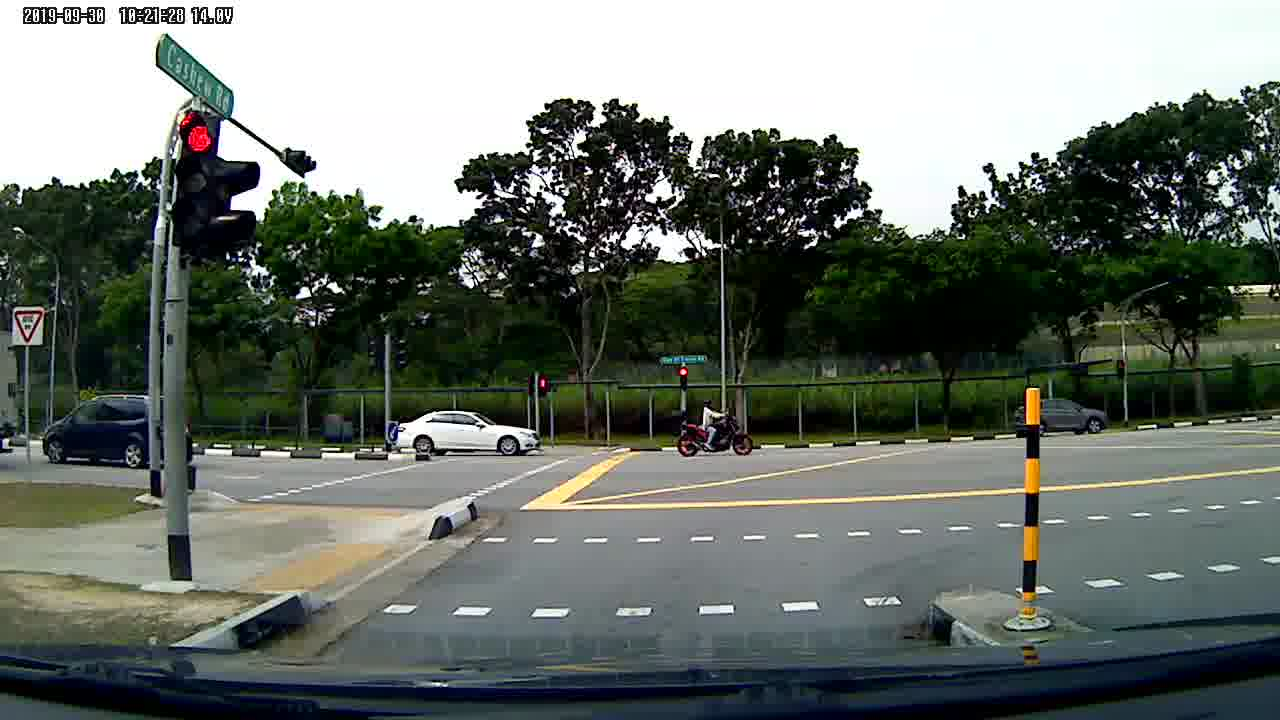car: (35, 395, 194, 472), (391, 408, 550, 456), (1039, 392, 1111, 433)
